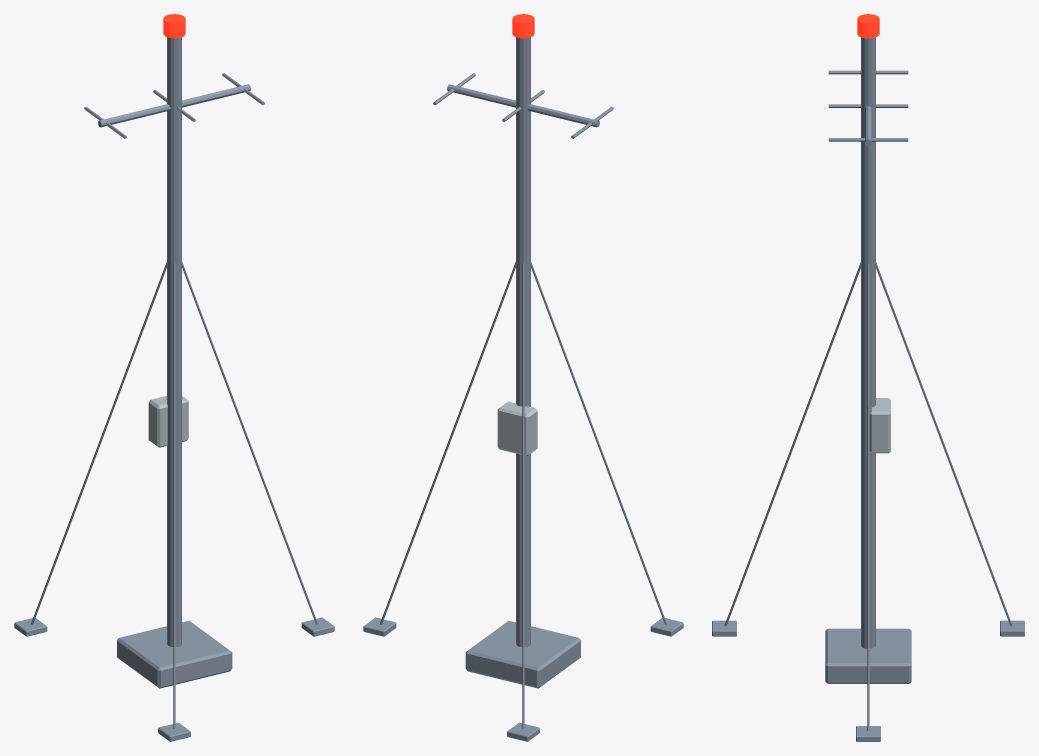
Rendered from antenna_mast.glb.
3 views of the same model, side by side, from view 1: azimuth 30°, elevation 25°; view 2: azimuth 150°, elevation 25°; view 3: azimuth 270°, elevation 25° (orthographic).
Parts seen in each view (by area): view 1: antenna_mast__m9_station_metal, antenna_mast__m9_station_white; view 2: antenna_mast__m9_station_metal, antenna_mast__m9_station_white; view 3: antenna_mast__m9_station_metal, antenna_mast__m9_station_white, antenna_mast__m9_warning_red.
Boxes of the visible parts, x1,y1,x2,y2 form: antenna_mast__m9_station_metal: [14, 37, 334, 741]; antenna_mast__m9_station_white: [148, 396, 188, 447]; antenna_mast__m9_station_metal: [363, 37, 683, 741]; antenna_mast__m9_station_white: [497, 401, 537, 455]; antenna_mast__m9_station_metal: [712, 37, 1024, 741]; antenna_mast__m9_station_white: [869, 398, 890, 453]; antenna_mast__m9_warning_red: [857, 14, 879, 38].
Size of the model in its own units: 1.65 by 4.3 by 1.88.
